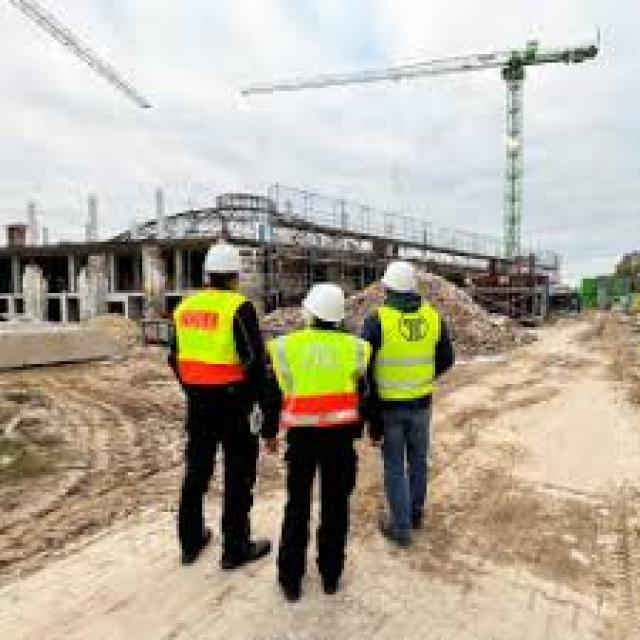white helmet: (301, 283, 351, 325), (202, 240, 249, 276), (380, 259, 423, 298)
